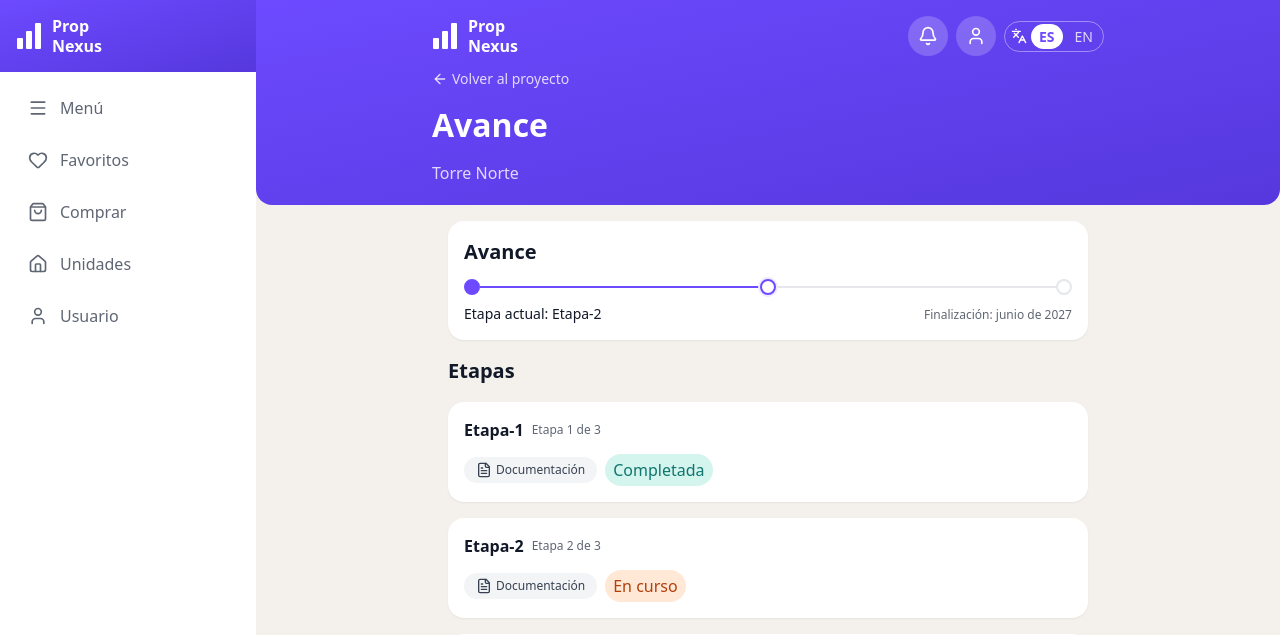
Test case: /project/:projectId/progress (investor) › tocar un nodo del timeline navega a su detalle
What coordinates should you click on to do the following:
click the button named "Etapa-2"
I would click on:
 (768, 287)
Its box is [760,279,776,295].
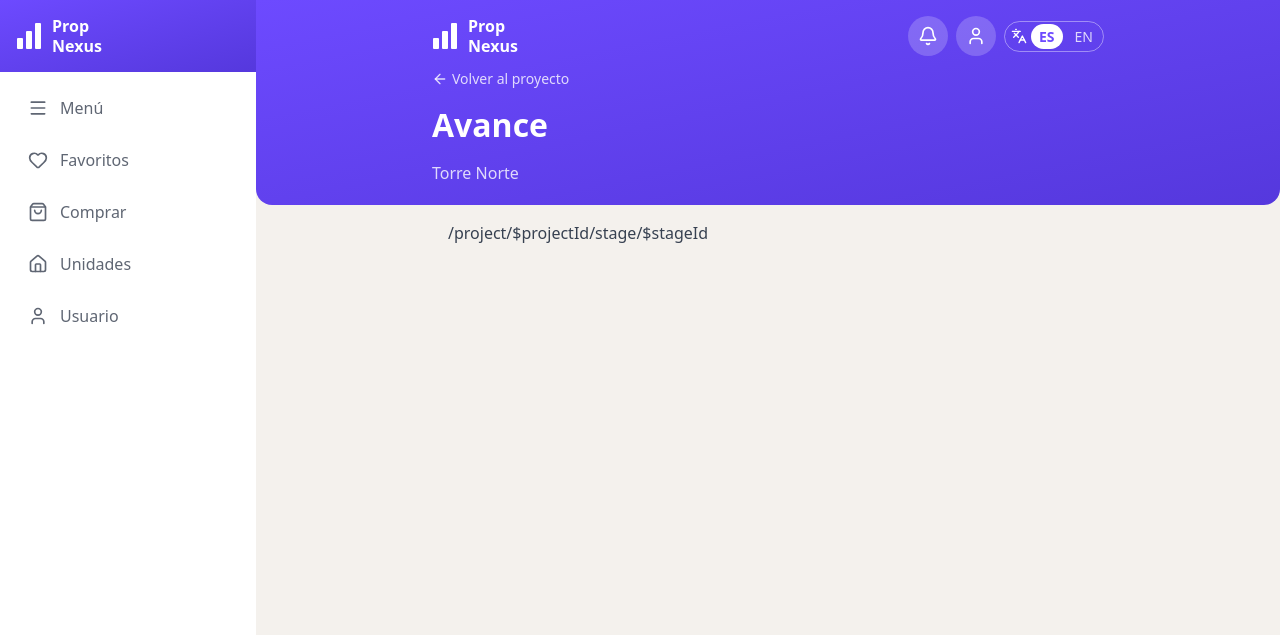
Expected: the text "/project/$projectId/stage/$stageId" is shown, [448,222,708,244]
